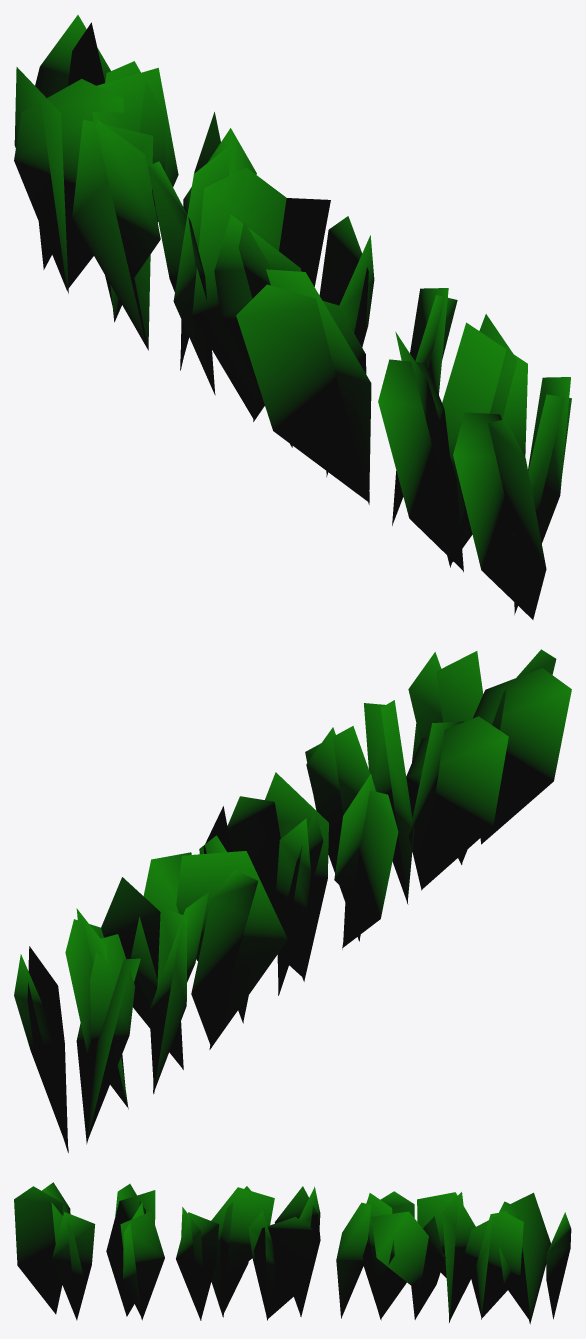
File: RiceGrown_2.fbx
The picture shows the model from 3 angles, top to bottom: view 1: azimuth 30°, elevation 25°; view 2: azimuth 150°, elevation 25°; view 3: azimuth 270°, elevation 25°; orthographic projection. The views are drawn at different scales.
Visible parts, largest first — view 1: RiceGrown_2; view 2: RiceGrown_2; view 3: RiceGrown_2.
Part boxes in pixels (x1,y1,x2,y2): RiceGrown_2: (14, 15, 571, 619); RiceGrown_2: (14, 649, 571, 1152); RiceGrown_2: (14, 1182, 571, 1324).
Size of the model in its own units: 55.22 by 74.4 by 297.
